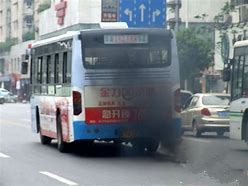smoke: (121, 87, 188, 160)
